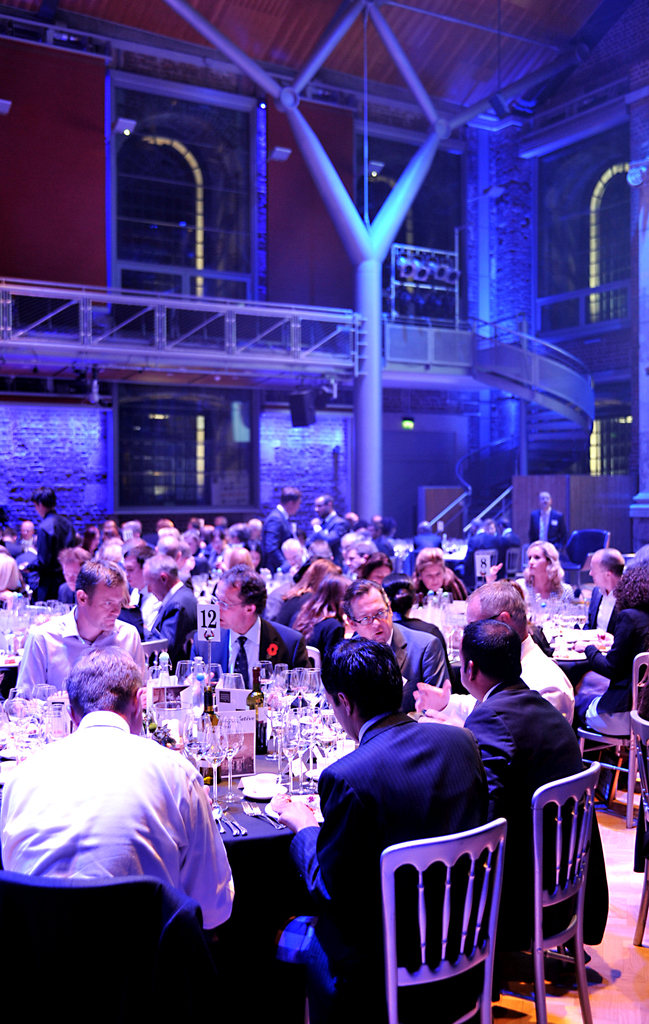Chair: (0, 872, 208, 1023), (497, 762, 614, 1021), (380, 817, 511, 1023), (630, 710, 648, 948), (625, 649, 648, 822)
